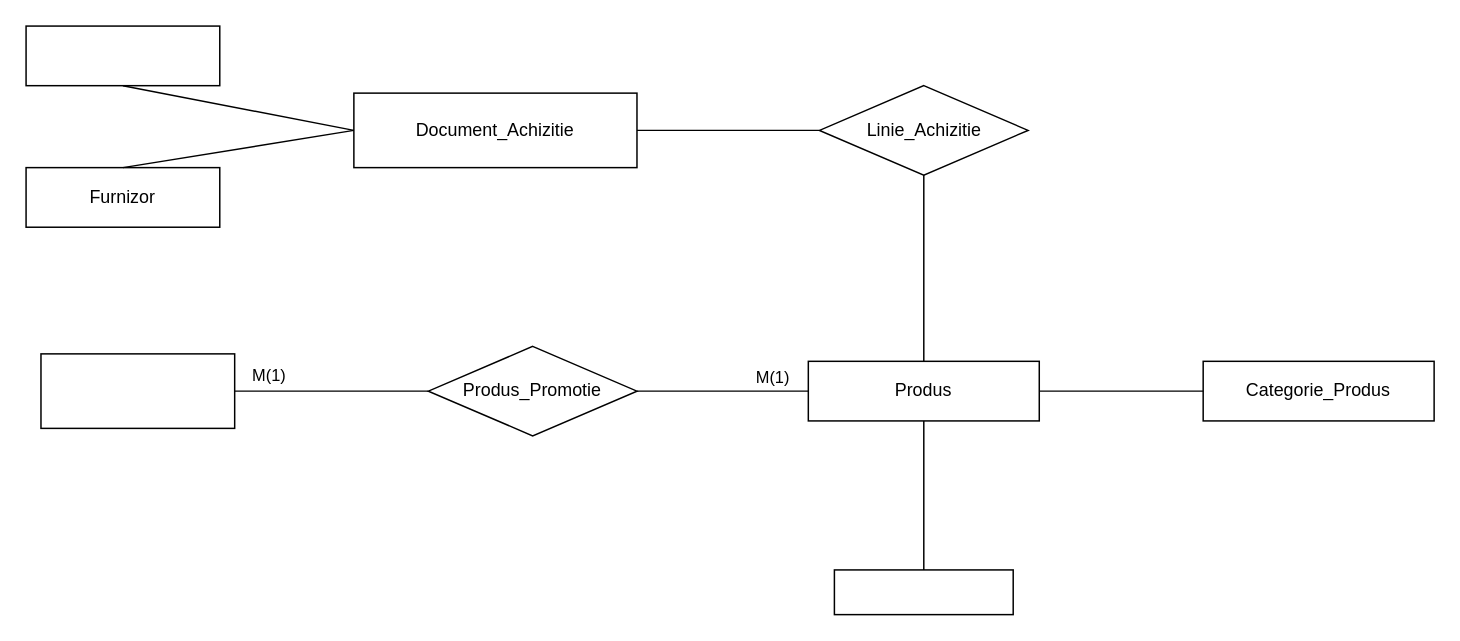
The diagram is 1460 pixels wide and 641 high, and some of its shapes have lost their labels. The shapes that lost their labels are listed below. From the top down, each one's centre as x and y in pixels, then its label:
At (x=122, y=55): "Magazin".
At (x=137, y=390): "Promotie".
At (x=923, y=591): "TVA".
